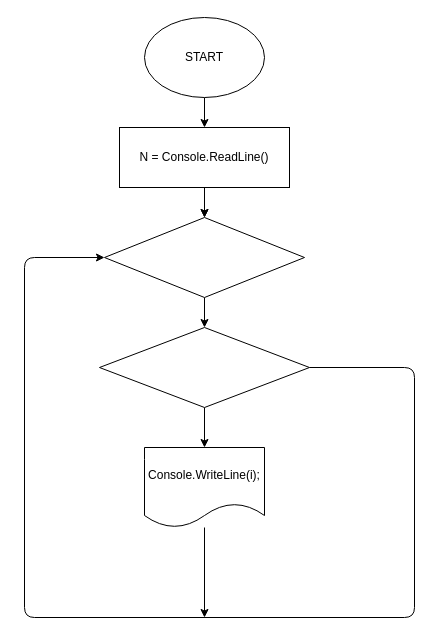
Image size: 440x643. Some labels were removed from this diagram. Each missing label, with the centre of its shape:
i = -N; i <> N+1: (204,257)
if i%2 = 0: (204,367)
